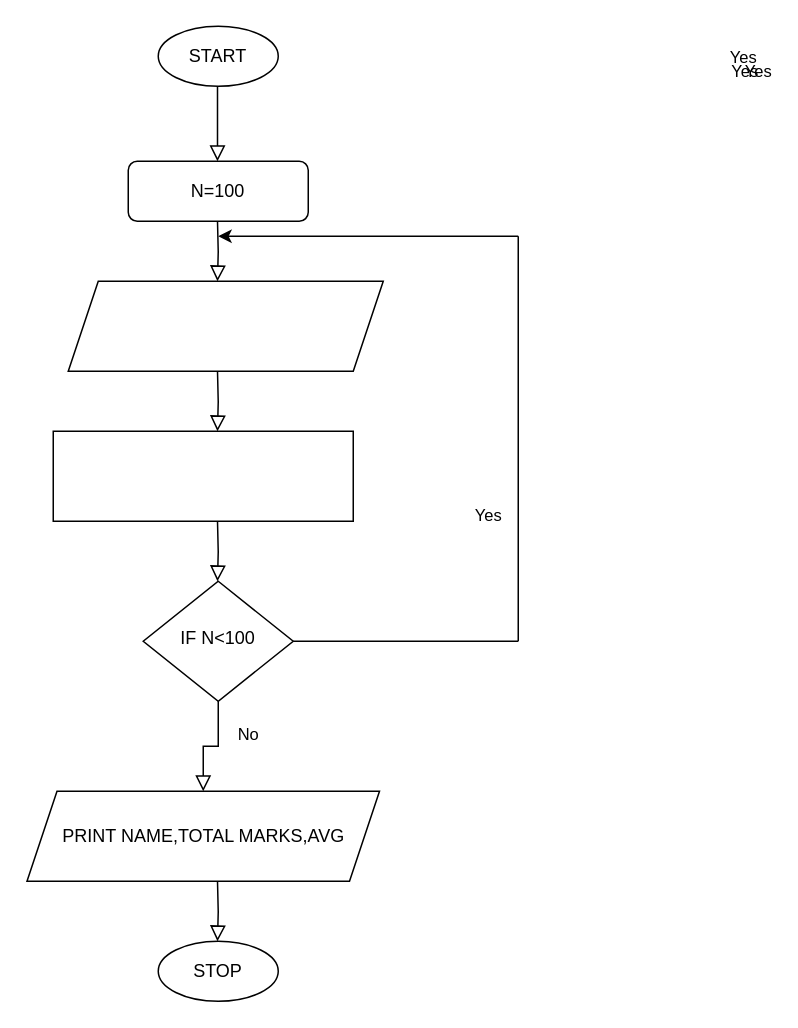
The diagram is 798 pixels wide and 1028 high, and some of its shapes have lost their labels. The shapes that lost their labels are listed below. From the top down, each one's box as (x1, y1, x2, y2) in pixels, then its label:
(67, 280, 383, 371): INPUT NAME INPUT MARKS U1,U2,U3,U4,U5
(52, 430, 353, 521): TOTAL MARK=U1+U2+U3+U14+U5 AVG=TOTAL MARK/5 N=N+1
